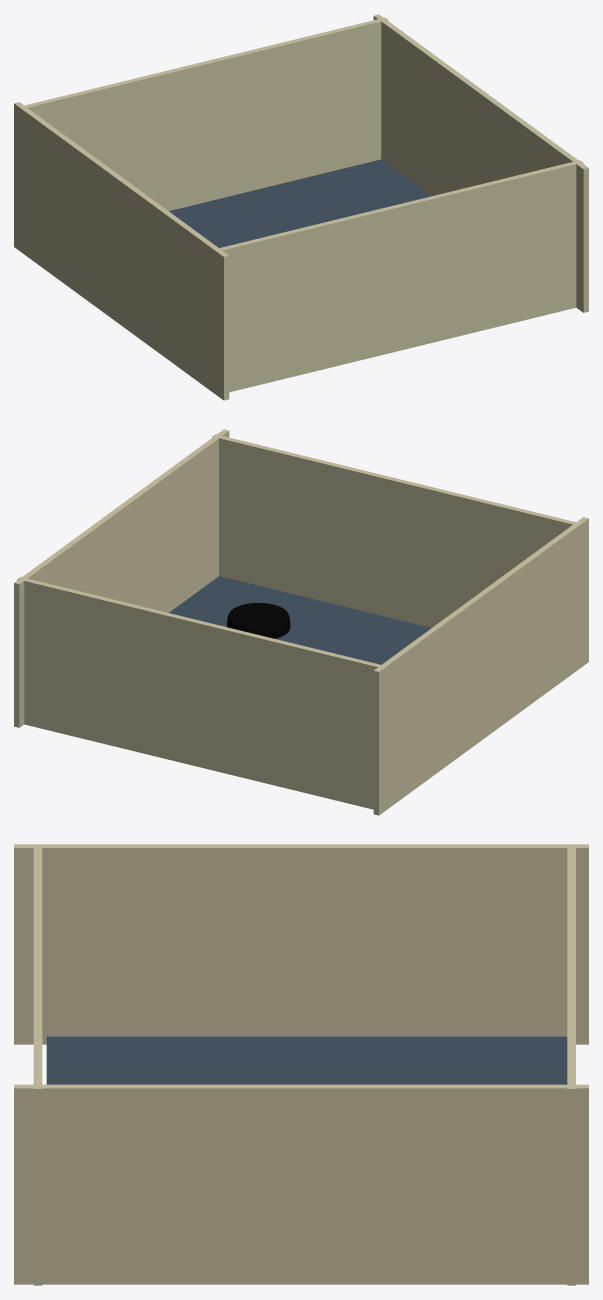
Rendered from EditStage.fbx.
3 views of the same model, one above another, from view 1: azimuth 30°, elevation 25°; view 2: azimuth 150°, elevation 25°; view 3: azimuth 270°, elevation 25° (orthographic). The views are drawn at different scales.
Parts seen in each view (by area): view 1: Wall_500x500_32, Wall_500x501, Wall_500x502, Wall_500x503, Floor_400x402; view 2: Wall_500x501, Wall_500x500_32, Wall_500x502, Wall_500x503, Floor_400x401_21, SM_AssetPlatform_29; view 3: Wall_500x503, Wall_500x502, Floor_400x403, Wall_500x500_32, Wall_500x501.
Part boxes in pixels (x1=…): Wall_500x500_32: x1=217, y1=160, x2=583, y2=392; Wall_500x501: x1=22, y1=17, x2=388, y2=210; Wall_500x502: x1=14, y1=102, x2=229, y2=400; Wall_500x503: x1=373, y1=14, x2=588, y2=312; Floor_400x402: x1=169, y1=159, x2=431, y2=247; Wall_500x501: x1=17, y1=577, x2=383, y2=809; Wall_500x500_32: x1=212, y1=434, x2=577, y2=627; Wall_500x502: x1=373, y1=517, x2=588, y2=815; Wall_500x503: x1=14, y1=429, x2=229, y2=727; Floor_400x401_21: x1=169, y1=576, x2=431, y2=664; SM_AssetPlatform_29: x1=227, y1=603, x2=290, y2=638; Wall_500x503: x1=14, y1=1084, x2=588, y2=1284; Wall_500x502: x1=14, y1=844, x2=588, y2=1044; Floor_400x403: x1=46, y1=1036, x2=567, y2=1084; Wall_500x500_32: x1=33, y1=846, x2=42, y2=1285; Wall_500x501: x1=567, y1=846, x2=575, y2=1285.
Bounding box in the file's own units: 1335 × 1325 × 540.
